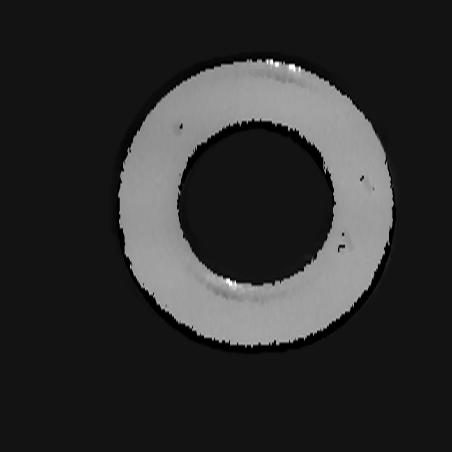defect: (338, 229, 355, 255), (360, 173, 375, 194), (172, 121, 183, 136)
